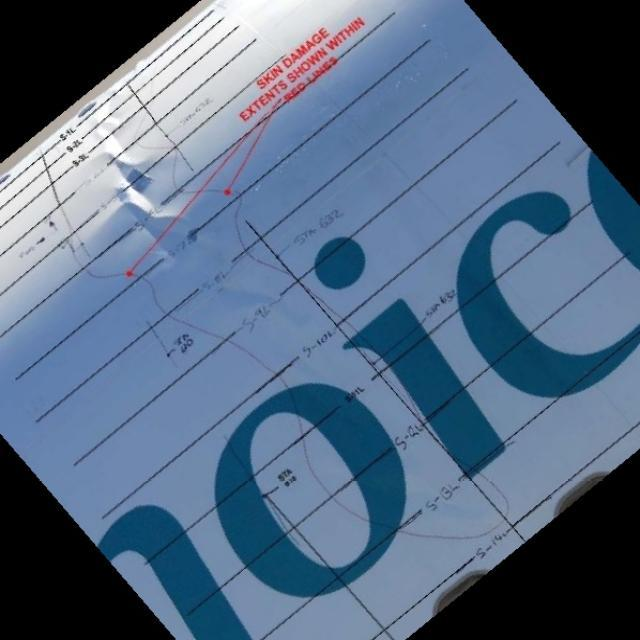dent: (111, 192, 211, 273), (196, 279, 317, 333), (88, 109, 160, 196)
